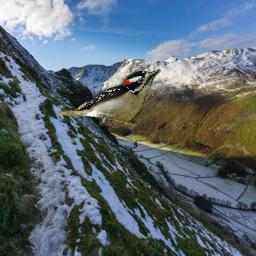Woodpecker: (57, 67, 161, 126)
